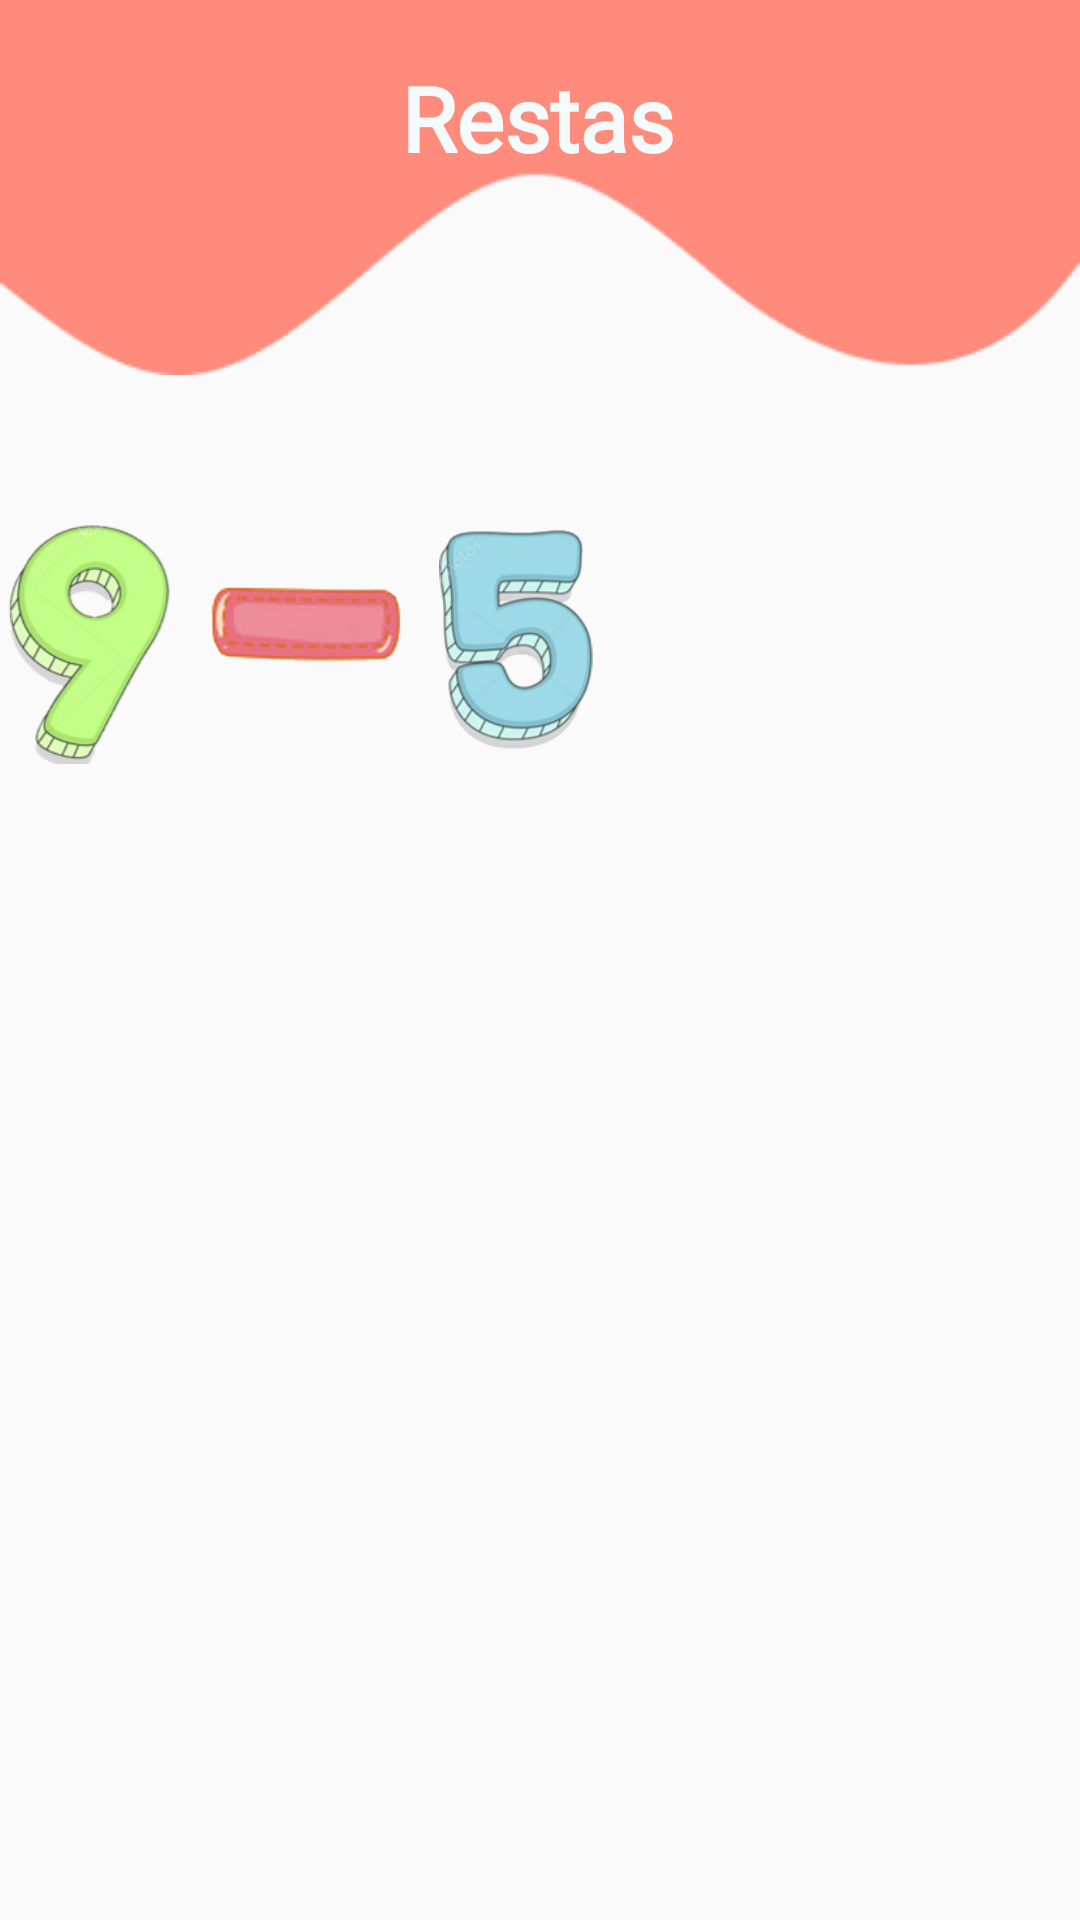

Named icons in this screenshot (1080*1920) and their centers, (x,y):
numero: (90,644), (516,639)
signo resta: (305,624)
